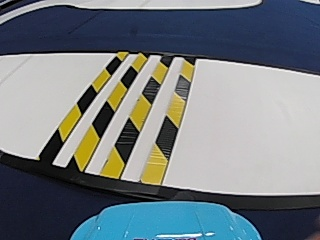bump: (37, 58, 196, 176)
